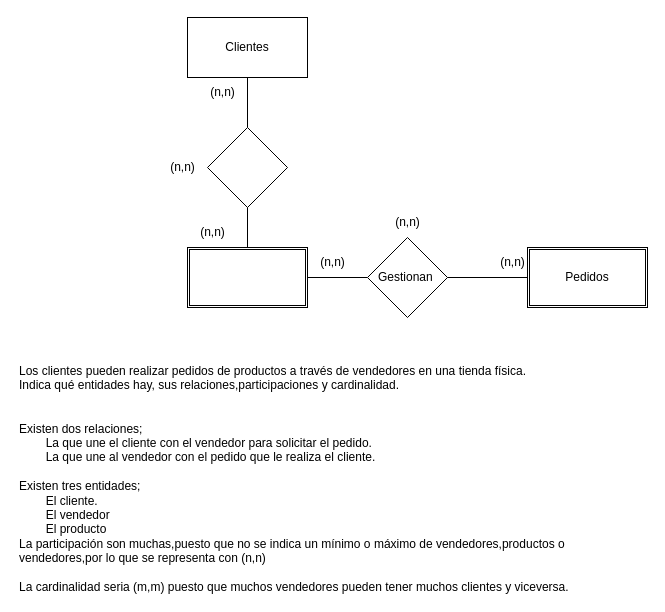
The diagram is 665 pixels wide and 612 high, and some of its shapes have lost their labels. Each missing label, with the centre of its shape:
"Pueden realizar pedidos a traves de" belongs at (247,167).
"Vendedores" belongs at (247,277).
